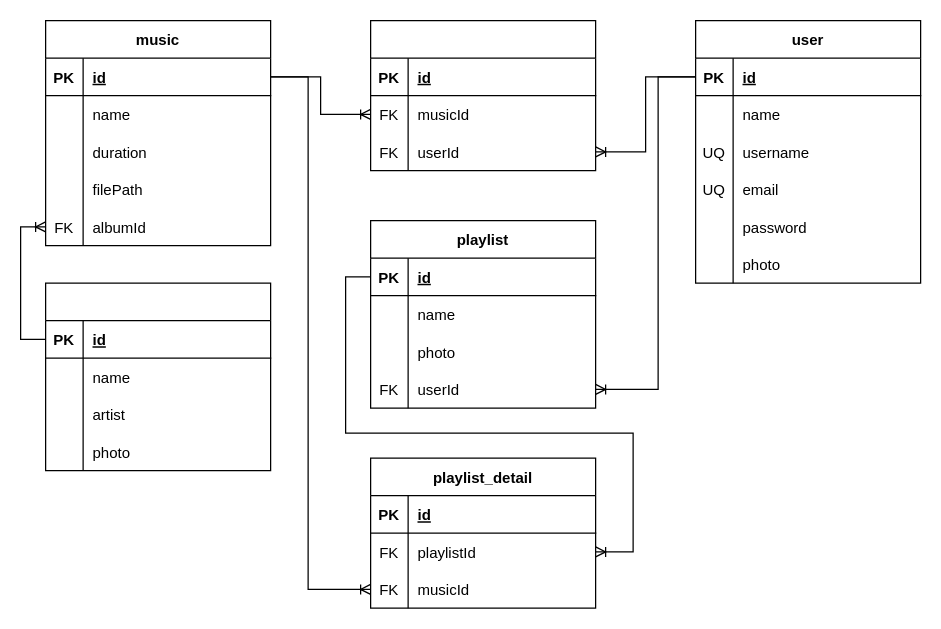
Image size: 941x629. Some labels were removed from this diagram. Here are the shapes that lost their labels. From the top down, the box of each, then its label:
(369, 19, 596, 171): favorite
(44, 282, 271, 471): album
